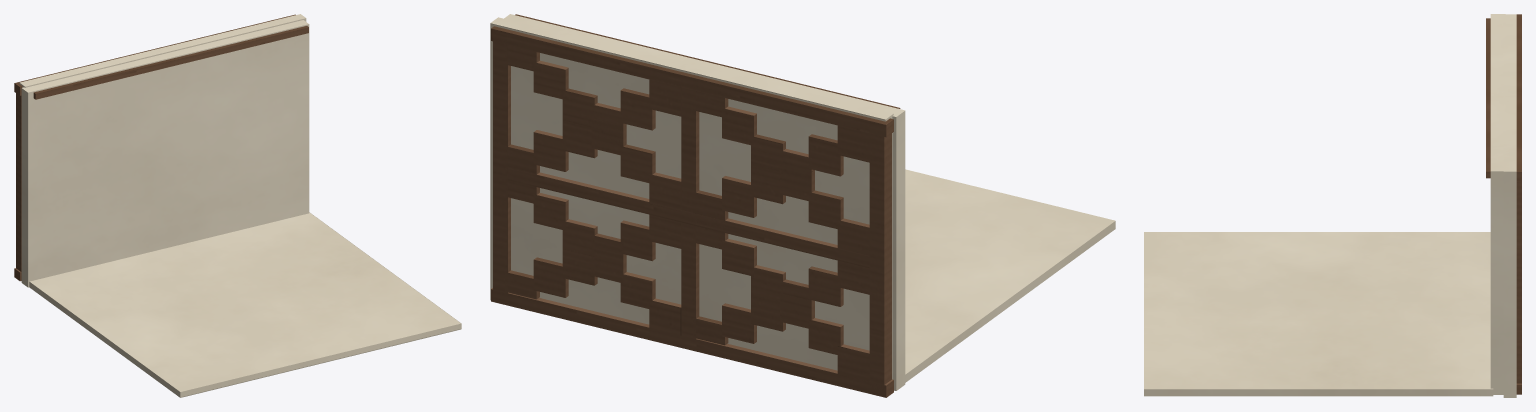
Rendered from med_wall_blind.glb.
The picture shows the model from 3 angles, left to right: view 1: azimuth 30°, elevation 25°; view 2: azimuth 150°, elevation 25°; view 3: azimuth 270°, elevation 25°; orthographic projection. The views are drawn at different scales.
Visible parts, largest first — view 1: med_wall_blind; view 2: med_wall_blind; view 3: med_wall_blind.
Boxes of the visible parts, x1=… form: med_wall_blind: x1=14, y1=14, x2=461, y2=397; med_wall_blind: x1=490, y1=14, x2=1115, y2=397; med_wall_blind: x1=1144, y1=14, x2=1521, y2=397.
Bounding box in the file's own units: 4.04 × 2.68 × 4.06.
Materials: 1 (1 with a texture image).
